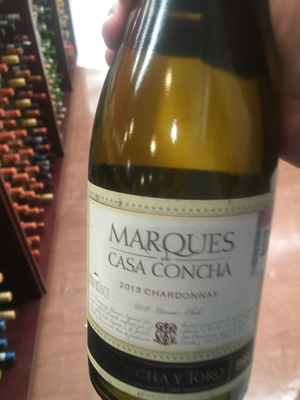marques de casa concha chardonnay: (81, 10, 282, 400)
